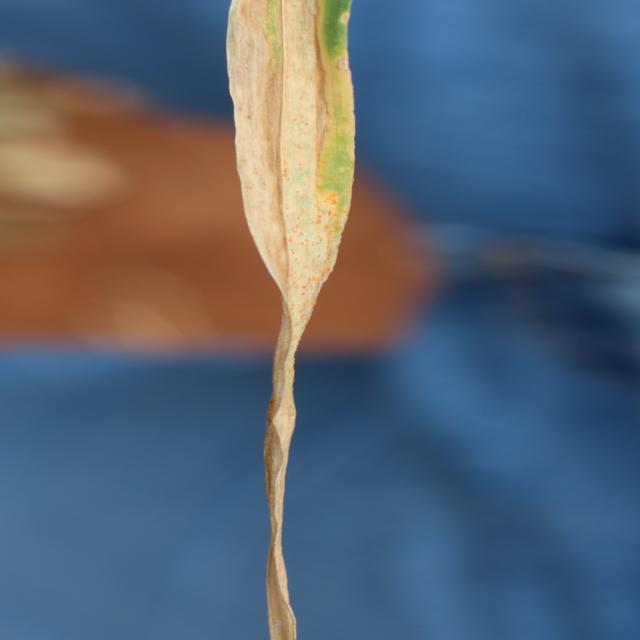Septoria: (225, 1, 358, 638)
